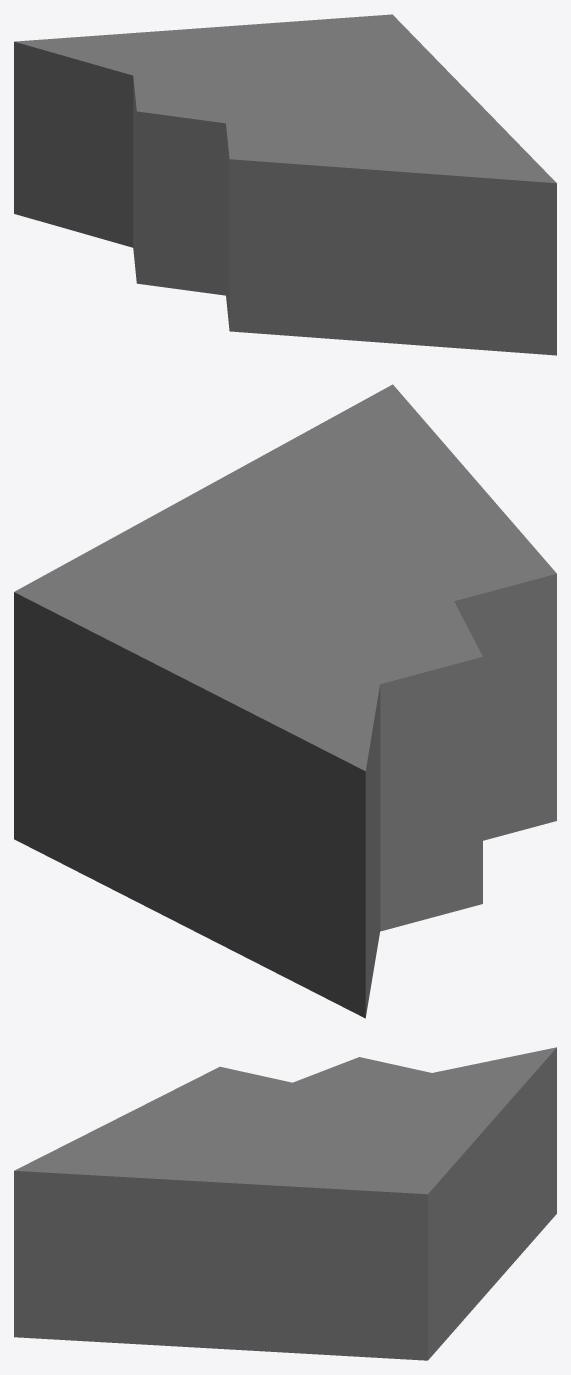
Rendered from base_destroyed_2.glb.
3 renders of one model, top to bottom at view 1: azimuth 30°, elevation 25°; view 2: azimuth 150°, elevation 25°; view 3: azimuth 270°, elevation 25°, orthographic. The views are drawn at different scales.
Parts seen in each view (by area): view 1: base_destroyed_2; view 2: base_destroyed_2; view 3: base_destroyed_2.
Boxes of the visible parts, bbox=[...] form: base_destroyed_2: bbox=[14, 14, 556, 355]; base_destroyed_2: bbox=[14, 384, 556, 1018]; base_destroyed_2: bbox=[14, 1047, 556, 1360].
Bounding box in the file's own units: 0.3788 × 0.2 × 0.5914.
Materials: 1 (1 with a texture image).
